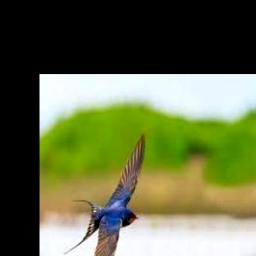Swallow: (64, 131, 144, 256)
